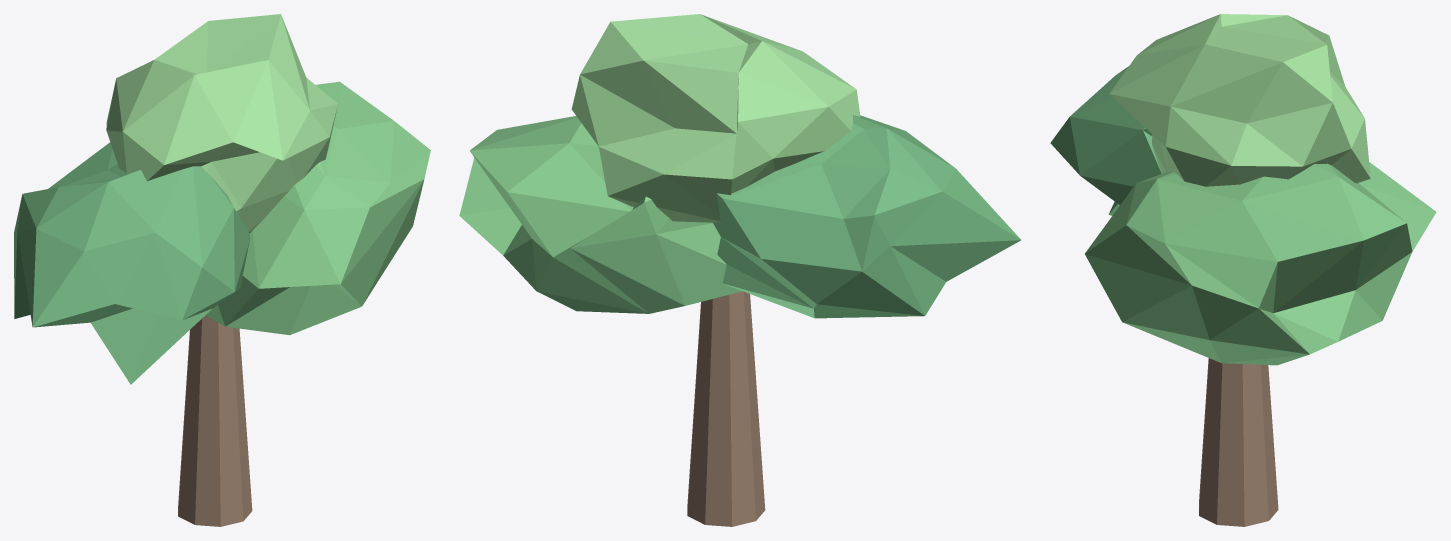
The model's file is ASTX_VEG_CANOPY_A.glb.
The picture shows the model from 3 angles, left to right: view 1: azimuth 30°, elevation 25°; view 2: azimuth 150°, elevation 25°; view 3: azimuth 270°, elevation 25°; orthographic projection. The views are drawn at different scales.
Visible parts, largest first — view 1: ASTX_VEG_CANOPY_A_massL, ASTX_VEG_CANOPY_A_massT, ASTX_VEG_CANOPY_A_massR, ASTX_VEG_CANOPY_A_trunk; view 2: ASTX_VEG_CANOPY_A_massT, ASTX_VEG_CANOPY_A_massL, ASTX_VEG_CANOPY_A_massR, ASTX_VEG_CANOPY_A_trunk; view 3: ASTX_VEG_CANOPY_A_massR, ASTX_VEG_CANOPY_A_massT, ASTX_VEG_CANOPY_A_trunk, ASTX_VEG_CANOPY_A_massL.
Boxes of the visible parts, <box> form: ASTX_VEG_CANOPY_A_massL: <box>14,142,249,384</box>; ASTX_VEG_CANOPY_A_massT: <box>106,14,337,232</box>; ASTX_VEG_CANOPY_A_massR: <box>206,81,430,335</box>; ASTX_VEG_CANOPY_A_trunk: <box>178,315,252,526</box>; ASTX_VEG_CANOPY_A_massT: <box>571,14,860,223</box>; ASTX_VEG_CANOPY_A_massL: <box>713,115,1021,318</box>; ASTX_VEG_CANOPY_A_massR: <box>459,116,741,313</box>; ASTX_VEG_CANOPY_A_trunk: <box>687,291,765,526</box>; ASTX_VEG_CANOPY_A_massR: <box>1085,162,1436,365</box>; ASTX_VEG_CANOPY_A_massT: <box>1109,14,1370,186</box>; ASTX_VEG_CANOPY_A_trunk: <box>1199,358,1278,526</box>; ASTX_VEG_CANOPY_A_massL: <box>1050,66,1161,215</box>.
Size of the model in its own units: 8.12 by 7.78 by 5.51.
